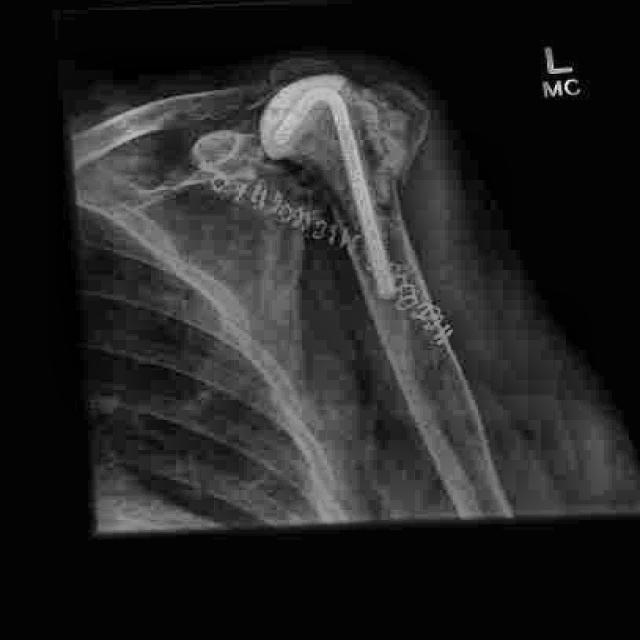shoulder fracture: (358, 68, 460, 216)
